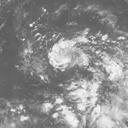cyclone: (47, 38, 87, 71)
